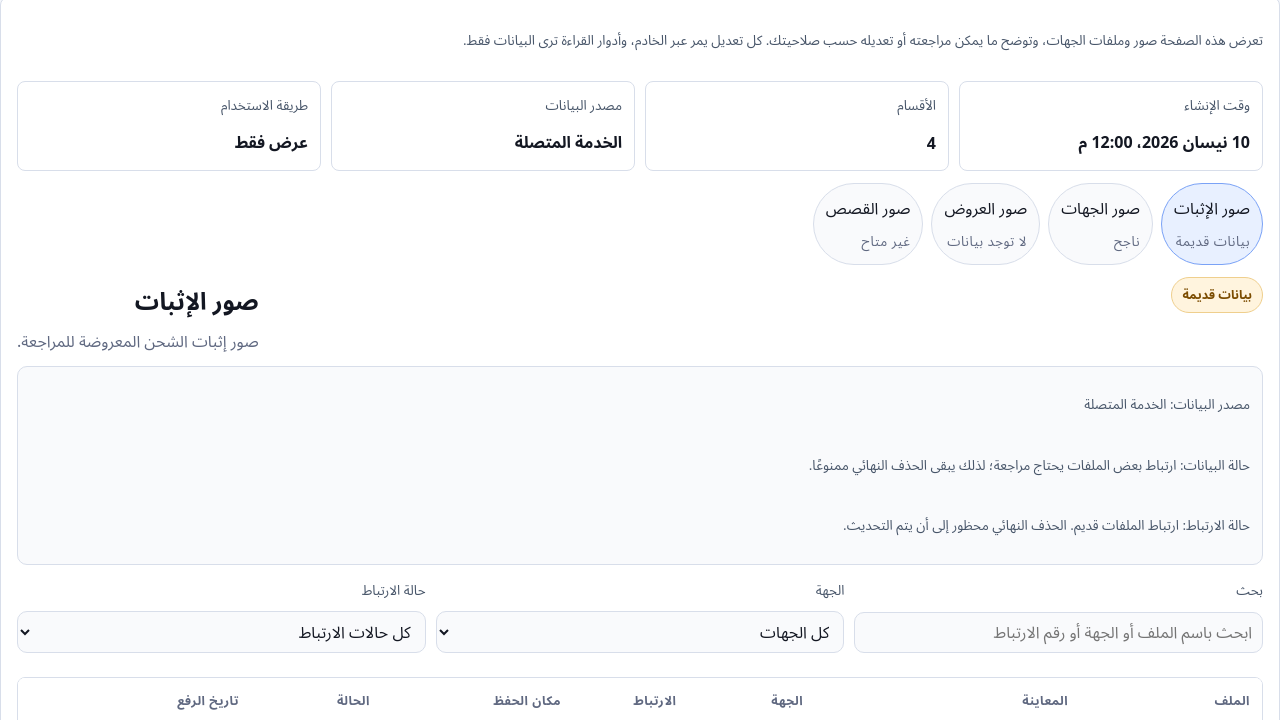
it: media center shell › shows filter-empty state when active section items do not match
The width and height of the screenshot is (1280, 720).
Type "does-not-exist" into the search field with test id "media-center-search-input".
click(1059, 632); type("does-not-exist")  # box [854,612,1263,653]
(page scrolled)
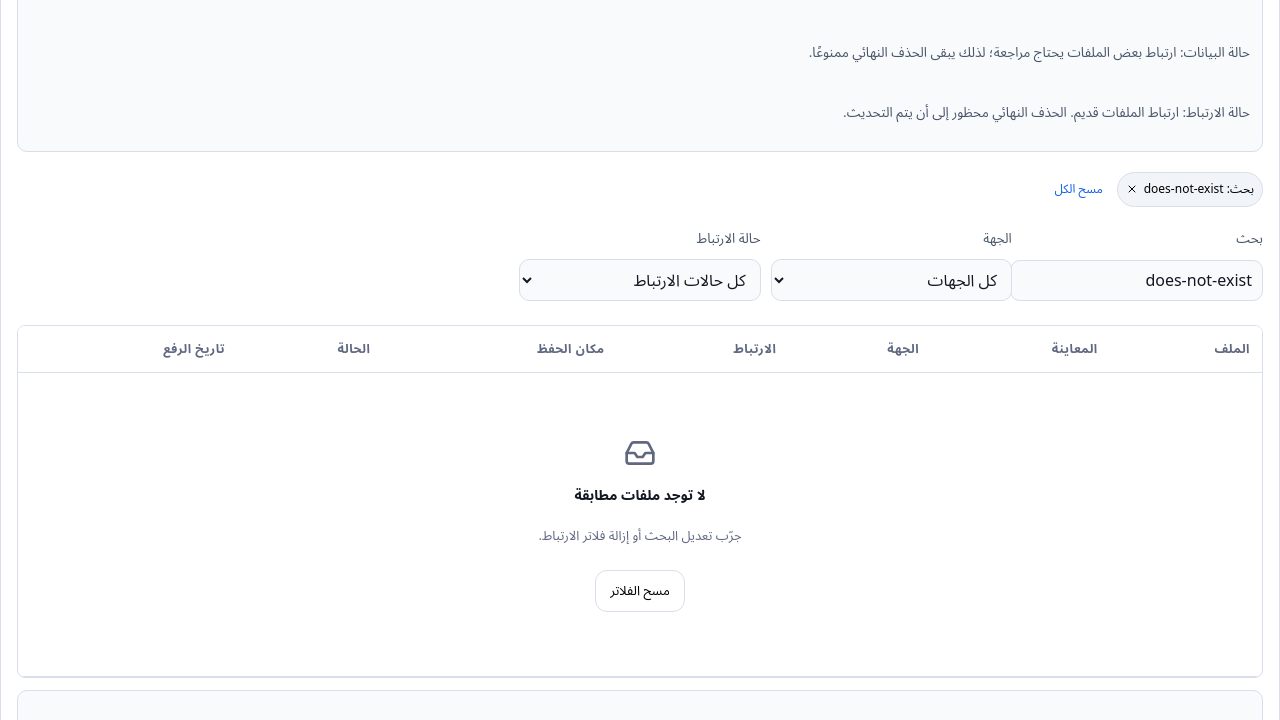
Expected: the text "لا توجد ملفات مطابقة" is shown, [574,481,706,510]
